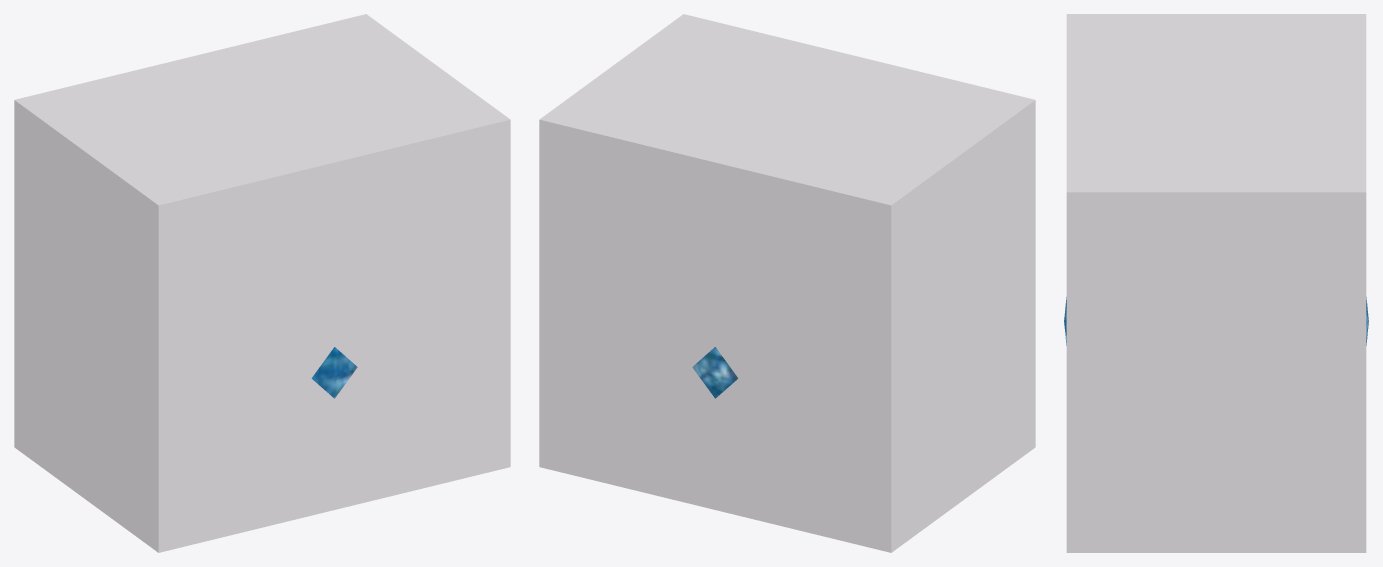
The model's file is cube-globe.gltf.
The picture shows the model from 3 angles, left to right: view 1: azimuth 30°, elevation 25°; view 2: azimuth 150°, elevation 25°; view 3: azimuth 270°, elevation 25°; orthographic projection. The views are drawn at different scales.
Parts seen in each view (by area): view 1: Box, Sphere; view 2: Box, Sphere; view 3: Box.
Part boxes in pixels (box(x1,y1,x2,y2)): Box: box(14, 14, 510, 552); Sphere: box(311, 347, 357, 398); Box: box(539, 14, 1035, 552); Sphere: box(692, 347, 738, 398); Box: box(1066, 14, 1366, 552).
Size of the model in its own units: 2.87 by 2.79 by 2.08.
Materials: 2 (1 with a texture image).
